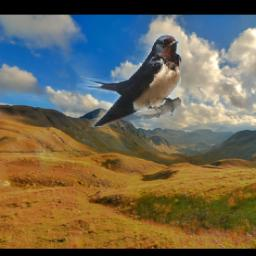Swallow: (47, 34, 181, 127)
